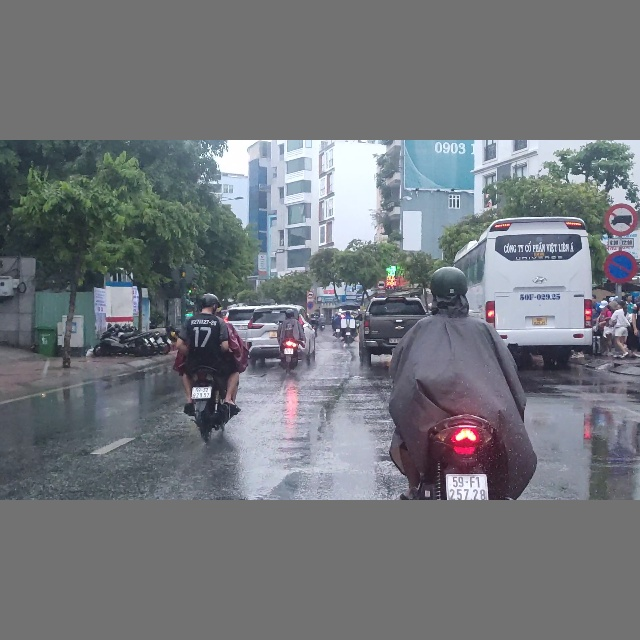P.106a*Xe tai: (605, 202, 639, 236), (377, 280, 387, 290), (307, 291, 314, 298)
P.131a: (604, 248, 638, 284)
